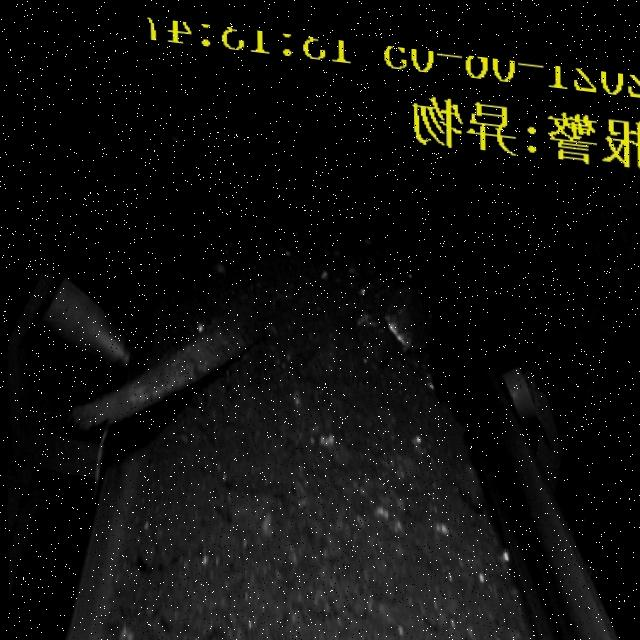bolt: (74, 283, 264, 444)
large_sized_coal: (356, 263, 437, 350)
